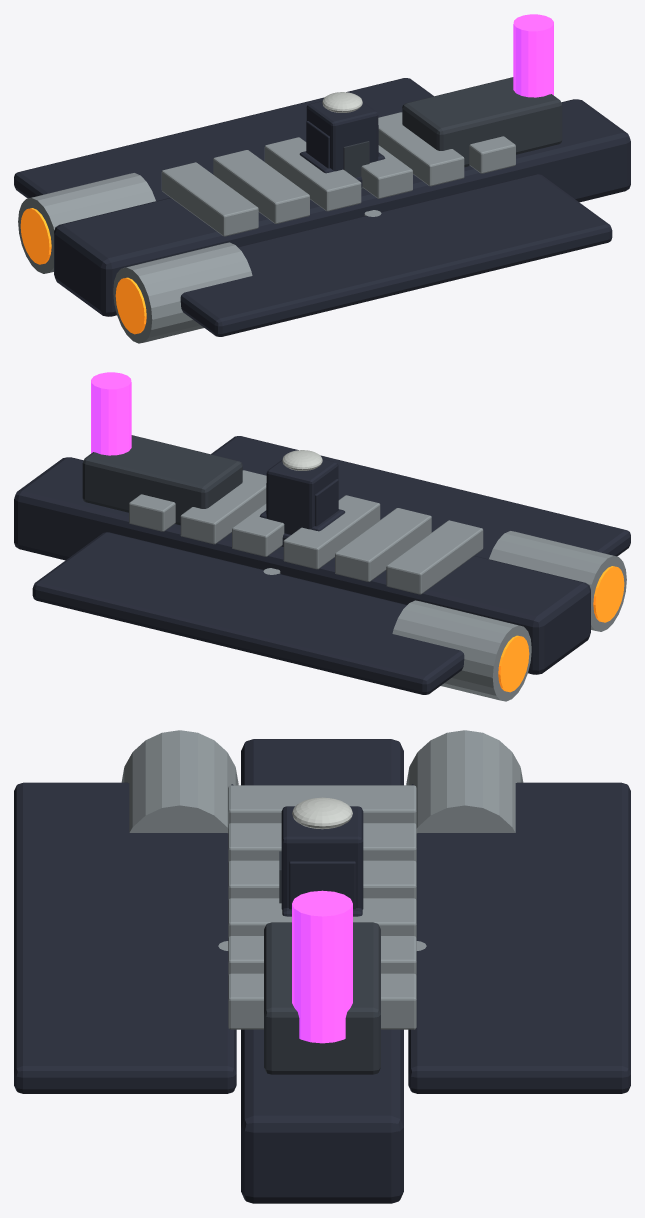
File: starter-coast-story-kit-authored-v2.glb
3 views of the same model, one above another, from view 1: azimuth 30°, elevation 25°; view 2: azimuth 150°, elevation 25°; view 3: azimuth 270°, elevation 25° (orthographic). The views are drawn at different scales.
Visible parts, largest first — view 1: Carrier__flight_deck.001, Carrier__spine, Carrier__flight_deck, Carrier__command_deck, Carrier__main_engine.001, Carrier__main_engine, Carrier__armor_module.001, Carrier__armor_module.002, Carrier__armor_module.003, Carrier__core_tower, Carrier__armor_module.005, Warden_Core__armor (+7 smaller); view 2: Carrier__flight_deck, Carrier__spine, Carrier__flight_deck.001, Carrier__command_deck, Carrier__main_engine, Carrier__main_engine.001, Carrier__armor_module.001, Carrier__armor_module.002, Carrier__armor_module.003, Warden_Core__armor, Carrier__core_tower, Carrier__armor_module.005 (+6 smaller); view 3: Carrier__flight_deck.001, Carrier__flight_deck, Carrier__spine, Carrier__command_deck, Carrier__main_engine.001, Carrier__main_engine, Carrier__core_tower, Carrier__armor_module.001, Warden_Core__armor, Carrier__armor_module.003, Carrier__armor_module, Carrier__armor_module.002 (+4 smaller).
Boxes of the visible parts, x1=… form: Carrier__flight_deck.001: x1=180, y1=174, x2=612, y2=336; Carrier__spine: x1=54, y1=99, x2=630, y2=316; Carrier__flight_deck: x1=14, y1=78, x2=433, y2=200; Carrier__command_deck: x1=402, y1=77, x2=562, y2=167; Carrier__main_engine.001: x1=113, y1=242, x2=252, y2=343; Carrier__main_engine: x1=18, y1=173, x2=155, y2=273; Carrier__armor_module.001: x1=161, y1=162, x2=258, y2=236; Carrier__armor_module.002: x1=213, y1=150, x2=309, y2=223; Carrier__armor_module.003: x1=264, y1=137, x2=361, y2=211; Carrier__core_tower: x1=513, y1=14, x2=553, y2=97; Carrier__armor_module.005: x1=378, y1=112, x2=464, y2=186; Warden_Core__armor: x1=306, y1=101, x2=378, y2=171; Carrier__flight_deck: x1=32, y1=532, x2=464, y2=694; Carrier__spine: x1=14, y1=457, x2=590, y2=674; Carrier__flight_deck.001: x1=211, y1=436, x2=630, y2=558; Carrier__command_deck: x1=82, y1=435, x2=242, y2=525; Carrier__main_engine: x1=392, y1=600, x2=531, y2=701; Carrier__main_engine.001: x1=489, y1=531, x2=626, y2=631; Carrier__armor_module.001: x1=386, y1=520, x2=483, y2=594; Carrier__armor_module.002: x1=335, y1=508, x2=431, y2=581; Carrier__armor_module.003: x1=283, y1=495, x2=380, y2=569; Warden_Core__armor: x1=266, y1=459, x2=338, y2=529; Carrier__core_tower: x1=91, y1=372, x2=131, y2=455; Carrier__armor_module.005: x1=180, y1=470, x2=266, y2=544; Carrier__flight_deck.001: x1=14, y1=782, x2=236, y2=1093; Carrier__flight_deck: x1=408, y1=782, x2=630, y2=1093; Carrier__spine: x1=241, y1=739, x2=403, y2=1203; Carrier__command_deck: x1=264, y1=922, x2=380, y2=1074; Carrier__main_engine.001: x1=121, y1=730, x2=238, y2=832; Carrier__main_engine: x1=406, y1=730, x2=523, y2=832; Carrier__core_tower: x1=292, y1=890, x2=352, y2=1043; Carrier__armor_module.001: x1=228, y1=785, x2=416, y2=824; Warden_Core__armor: x1=281, y1=806, x2=363, y2=909; Carrier__armor_module.003: x1=228, y1=860, x2=416, y2=899; Carrier__armor_module: x1=228, y1=973, x2=416, y2=1029; Carrier__armor_module.002: x1=228, y1=823, x2=416, y2=862.
Size of the model in its own units: 720 by 226 by 485.
